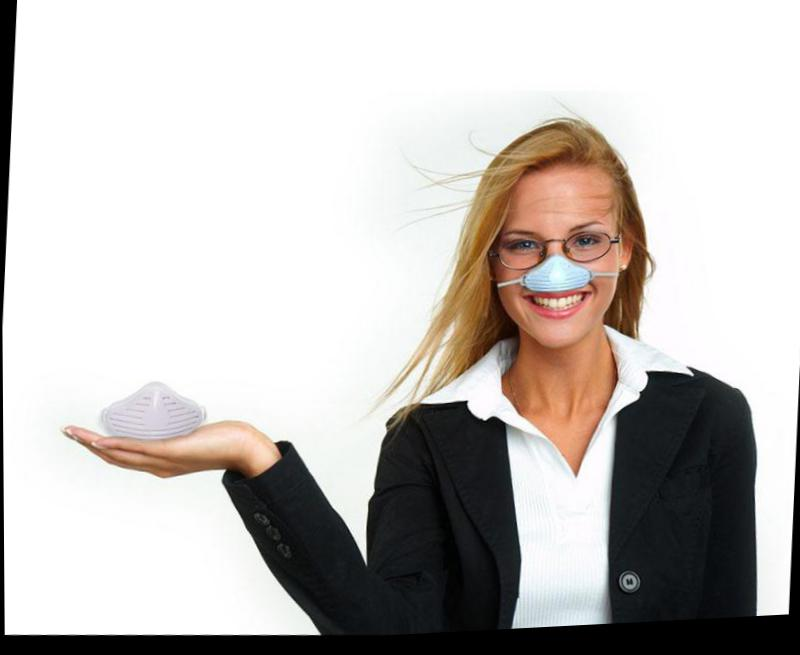WRONG: (491, 217, 618, 360)
